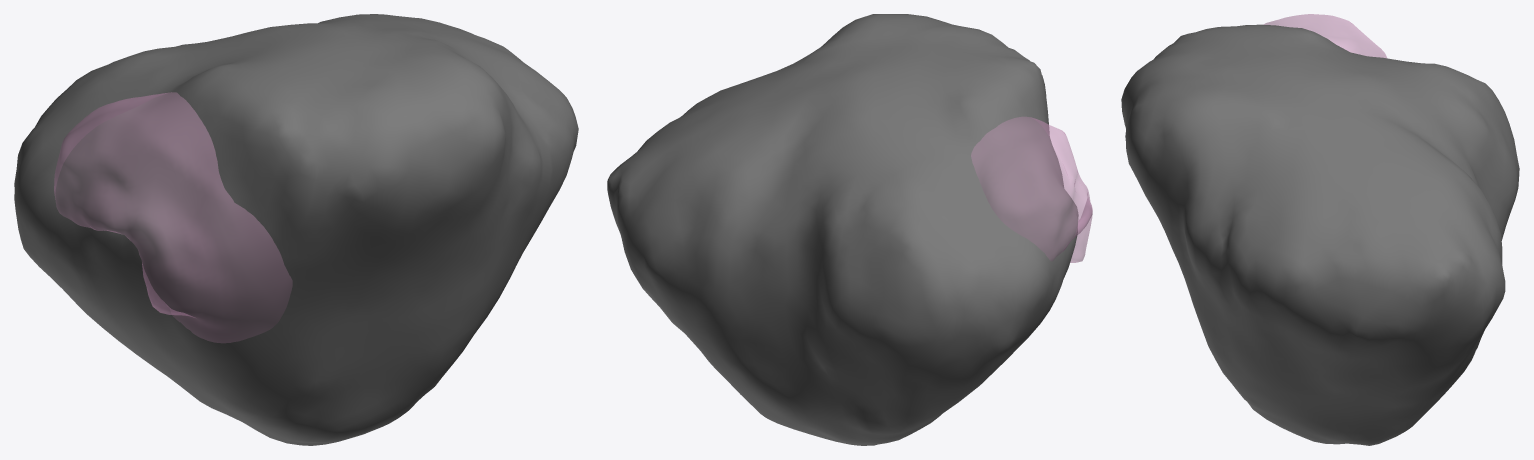
File: original_turnTable.glb
3 renders of one model, left to right at view 1: azimuth 30°, elevation 25°; view 2: azimuth 150°, elevation 25°; view 3: azimuth 270°, elevation 25°, orthographic. The views are drawn at different scales.
Visible parts, largest first — view 1: ProstateMRIPPMF17smoothed2Fixed, TumourSUV4; view 2: ProstateMRIPPMF17smoothed2Fixed, TumourSUV4; view 3: ProstateMRIPPMF17smoothed2Fixed, TumourSUV4.
Part boxes in pixels (x1,y1,x2,y2): ProstateMRIPPMF17smoothed2Fixed: (14, 14, 578, 445); TumourSUV4: (54, 92, 292, 342); ProstateMRIPPMF17smoothed2Fixed: (607, 14, 1078, 445); TumourSUV4: (971, 117, 1092, 262); ProstateMRIPPMF17smoothed2Fixed: (1121, 24, 1519, 445); TumourSUV4: (1263, 14, 1386, 58).
Bounding box in the file's own units: 7.69 × 6.36 × 6.26.
